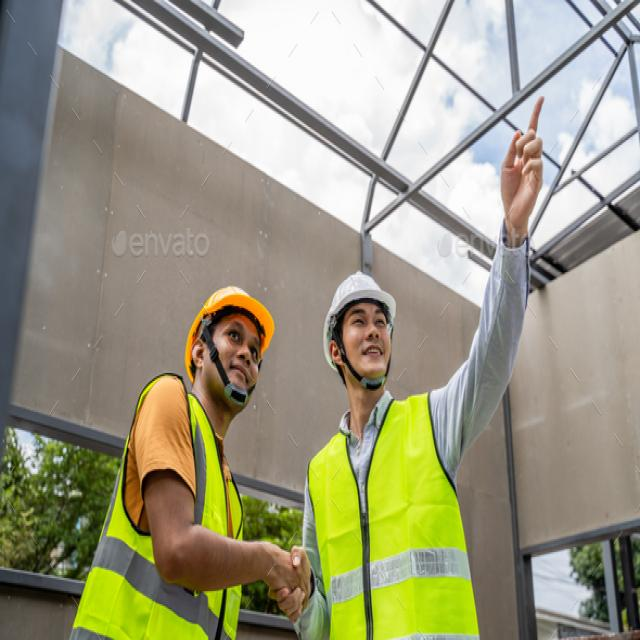helmet: (180, 271, 274, 378), (316, 265, 401, 372)
no-goggles: (215, 316, 264, 368), (334, 307, 401, 339)
vest: (63, 363, 255, 640), (303, 388, 486, 640)
